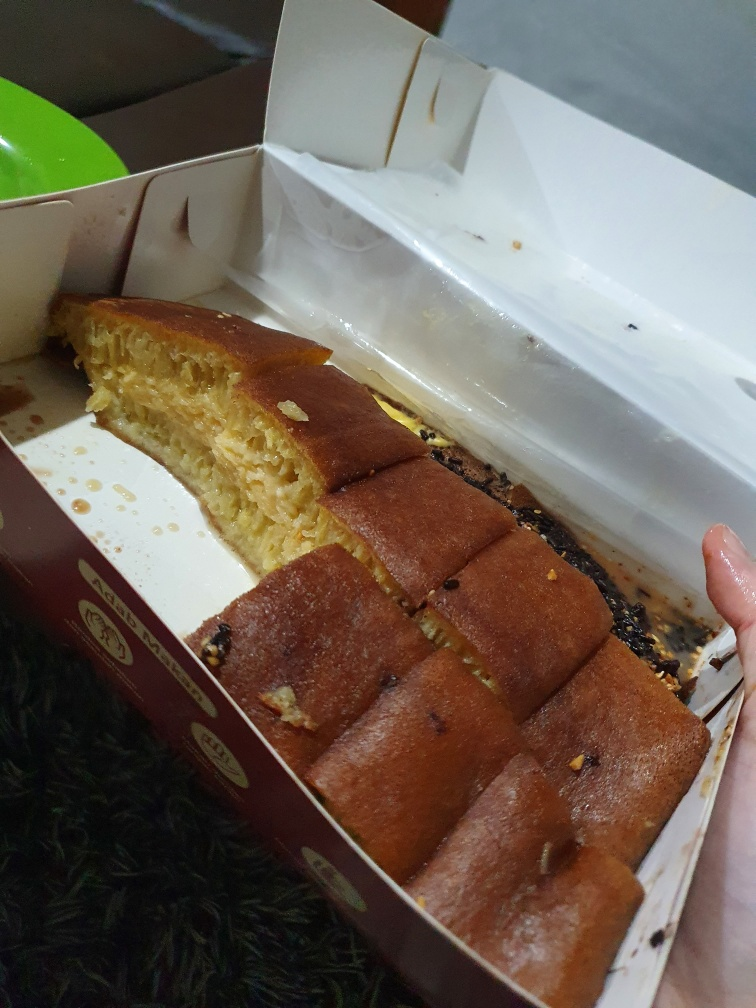martabak manis: (388, 767, 636, 999), (41, 261, 281, 483), (150, 550, 422, 742), (495, 604, 708, 842), (278, 686, 513, 866), (290, 417, 499, 611), (191, 339, 367, 557), (418, 501, 607, 699)
